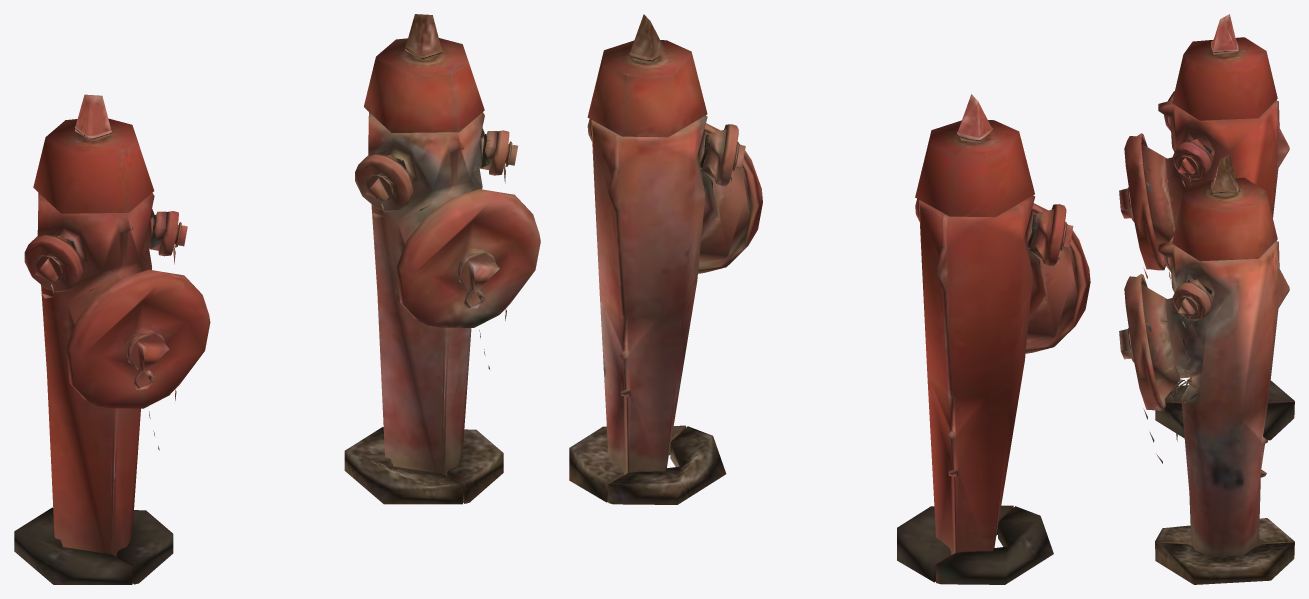
The picture shows the model from 3 angles, left to right: view 1: azimuth 30°, elevation 25°; view 2: azimuth 150°, elevation 25°; view 3: azimuth 270°, elevation 25°; orthographic projection. The views are drawn at different scales.
Visible parts, largest first — view 1: fire_hydrant_aged, fire_hydrant, fire_hydrant_cap_01, fire_hydrant_cap_01_aged, fire_hydrant_cap_03, fire_hydrant_cap_03_aged, fire_hydrant_cap_02_aged, fire_hydrant_cap_02; view 2: fire_hydrant_aged, fire_hydrant, fire_hydrant_cap_01_aged, fire_hydrant_cap_01, fire_hydrant_cap_03_aged, fire_hydrant_cap_03; view 3: fire_hydrant_aged, fire_hydrant, fire_hydrant_cap_01, fire_hydrant_cap_01_aged, fire_hydrant_cap_02, fire_hydrant_cap_02_aged, fire_hydrant_chain_aged.
Boxes of the visible parts, x1=… form: fire_hydrant_aged: x1=344, y1=14, x2=503, y2=504; fire_hydrant: x1=14, y1=94, x2=173, y2=584; fire_hydrant_cap_01: x1=66, y1=269, x2=210, y2=408; fire_hydrant_cap_01_aged: x1=396, y1=189, x2=540, y2=327; fire_hydrant_cap_03: x1=24, y1=234, x2=83, y2=292; fire_hydrant_cap_03_aged: x1=355, y1=153, x2=414, y2=211; fire_hydrant_cap_02_aged: x1=489, y1=130, x2=517, y2=175; fire_hydrant_cap_02: x1=158, y1=211, x2=187, y2=256; fire_hydrant_aged: x1=569, y1=14, x2=749, y2=504; fire_hydrant: x1=897, y1=94, x2=1077, y2=584; fire_hydrant_cap_01_aged: x1=698, y1=123, x2=762, y2=273; fire_hydrant_cap_01: x1=1025, y1=203, x2=1090, y2=353; fire_hydrant_cap_03_aged: x1=715, y1=124, x2=745, y2=186; fire_hydrant_cap_03: x1=1042, y1=204, x2=1073, y2=266; fire_hydrant_aged: x1=1142, y1=154, x2=1294, y2=584; fire_hydrant: x1=1142, y1=14, x2=1294, y2=440; fire_hydrant_cap_01: x1=1119, y1=133, x2=1165, y2=270; fire_hydrant_cap_01_aged: x1=1119, y1=274, x2=1165, y2=410; fire_hydrant_cap_02: x1=1172, y1=141, x2=1211, y2=180; fire_hydrant_cap_02_aged: x1=1172, y1=282, x2=1211, y2=320; fire_hydrant_chain_aged: x1=1143, y1=289, x2=1199, y2=463.
Size of the model in its own units: 0.8745 by 0.7992 by 0.3173.
Materials: 2 (2 with a texture image).
